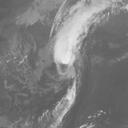cyclone: (49, 36, 80, 76)
